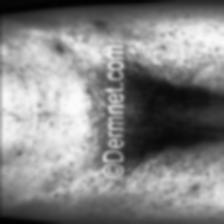Toxin: (152, 166, 210, 213), (48, 160, 100, 206), (160, 22, 224, 58), (90, 15, 109, 31), (12, 146, 26, 158), (52, 46, 65, 54)
